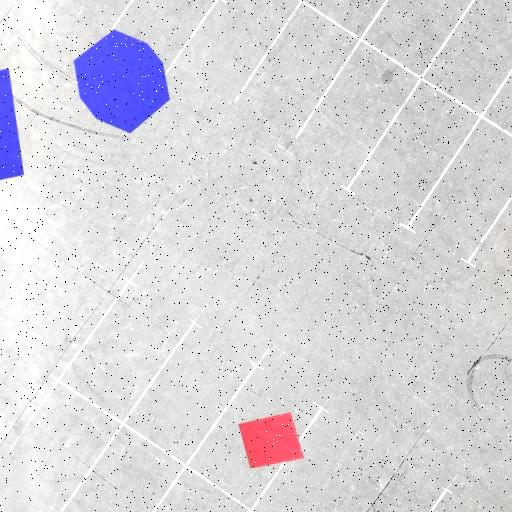RED_SQUARE: (238, 412, 304, 469)
